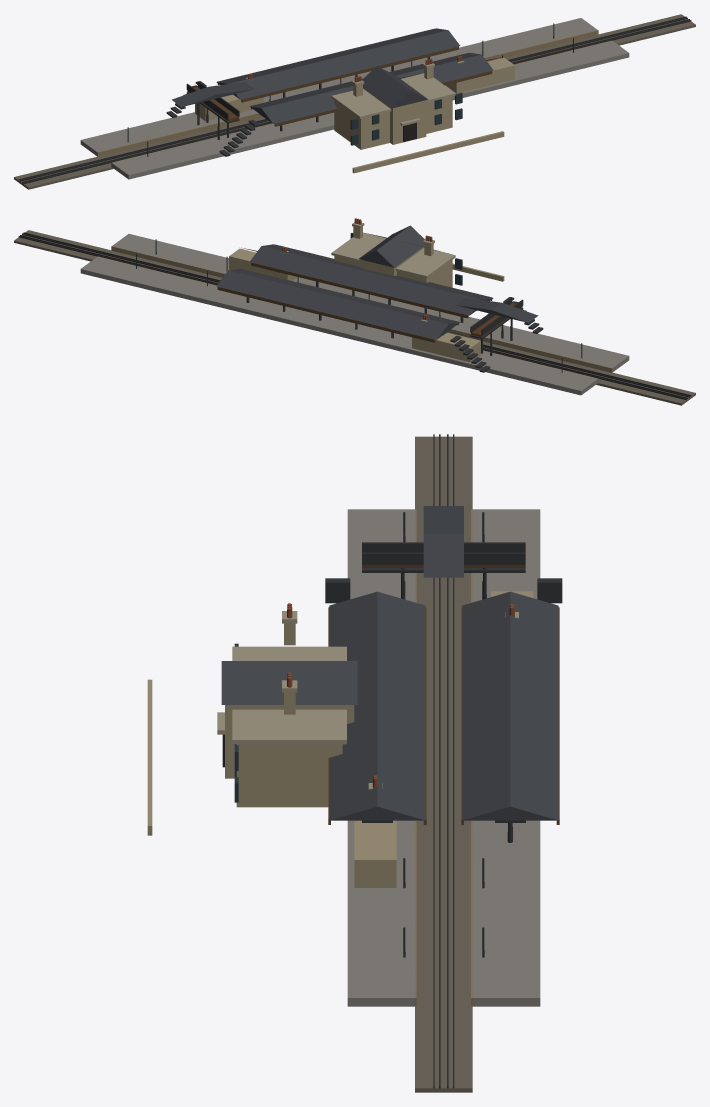
File: suburban_station_a.glb
3 views of the same model, one above another, from view 1: azimuth 30°, elevation 25°; view 2: azimuth 150°, elevation 25°; view 3: azimuth 270°, elevation 25° (orthographic). The views are drawn at different scales.
Visible parts, largest first — view 1: suburban_station_a; view 2: suburban_station_a; view 3: suburban_station_a.
Part boxes in pixels (x1,y1,x2,y2): suburban_station_a: (14, 14, 695, 189); suburban_station_a: (14, 218, 695, 405); suburban_station_a: (147, 434, 562, 1092).
Size of the model in its own units: 160 by 14.4 by 43.05.
